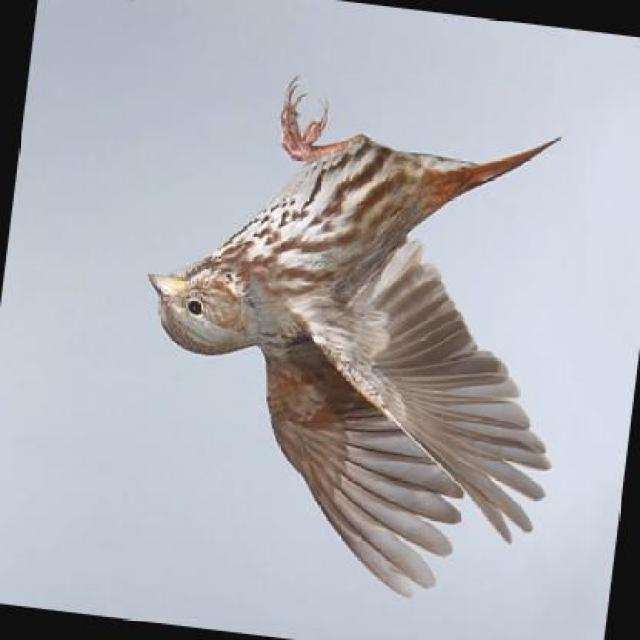Bird: (140, 69, 563, 606)
